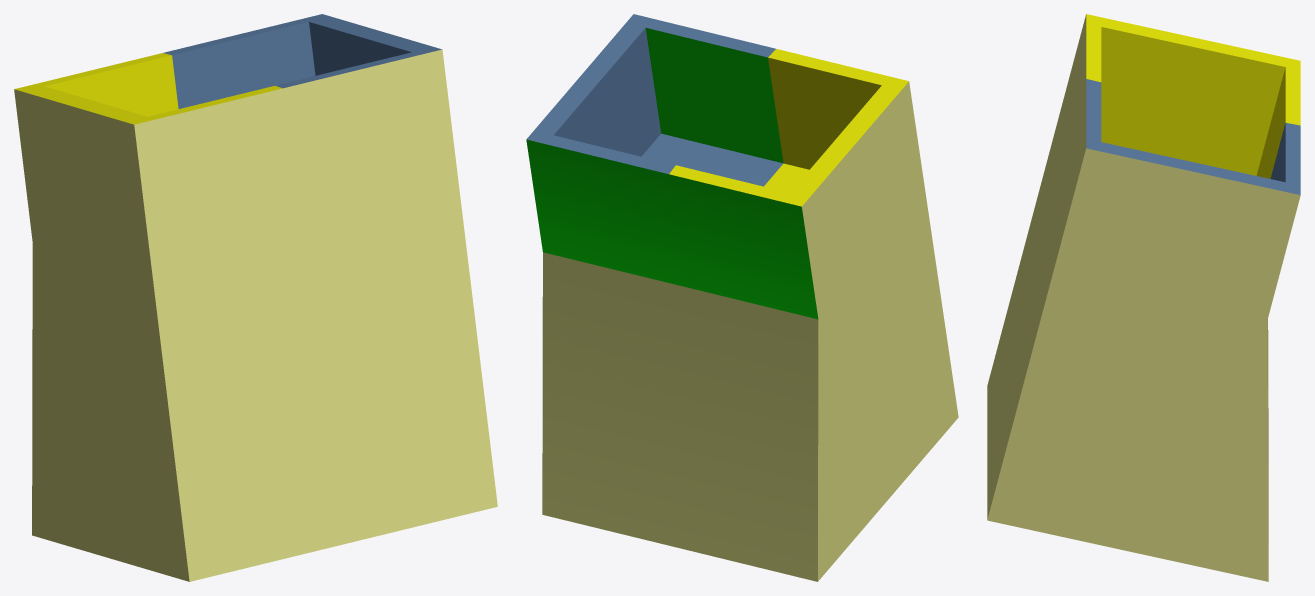
Rendered from sari_mavi_kutu.fbx.
3 renders of one model, left to right at view 1: azimuth 30°, elevation 25°; view 2: azimuth 150°, elevation 25°; view 3: azimuth 270°, elevation 25°, orthographic. The views are drawn at different scales.
Parts seen in each view (by area): view 1: pCube9; view 2: pCube9; view 3: pCube9.
Boxes of the visible parts, bbox=[...] form: pCube9: bbox=[14, 14, 497, 581]; pCube9: bbox=[526, 14, 958, 581]; pCube9: bbox=[987, 14, 1300, 581].
Size of the model in its own units: 4.33 by 6.51 by 4.27.
